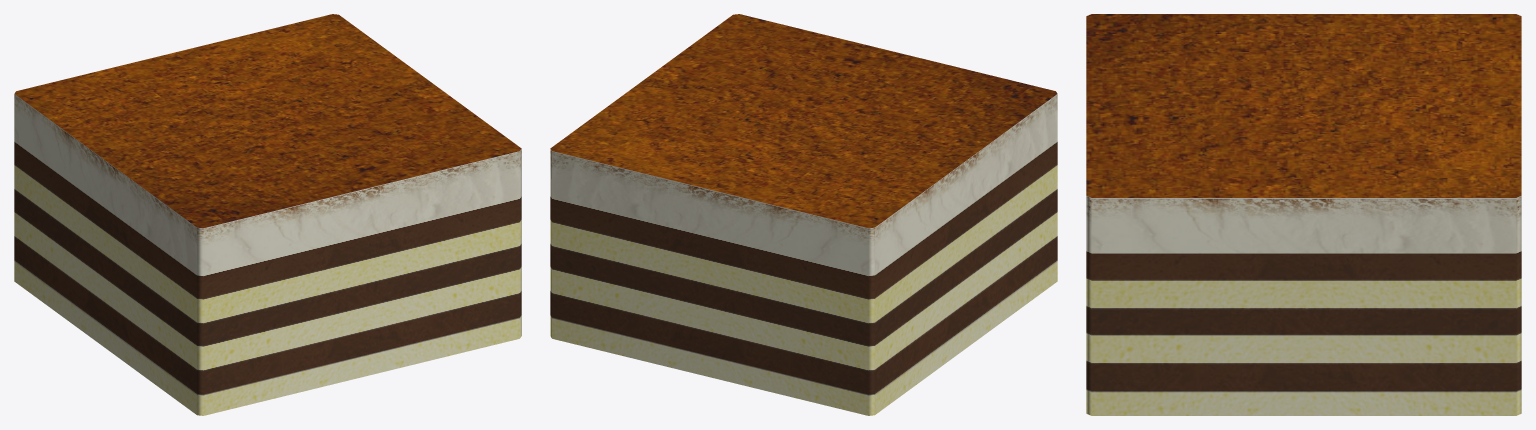
Rendered from Tiramisu.fbx.
3 renders of one model, left to right at view 1: azimuth 30°, elevation 25°; view 2: azimuth 150°, elevation 25°; view 3: azimuth 270°, elevation 25°, orthographic. The views are drawn at different scales.
Parts seen in each view (by area): view 1: Cake; view 2: Cake; view 3: Cake.
Boxes of the visible parts, x1=… form: Cake: x1=14, y1=14, x2=521, y2=415; Cake: x1=550, y1=14, x2=1057, y2=415; Cake: x1=1086, y1=14, x2=1521, y2=415.
Size of the model in its own units: 0.1726 by 0.0953 by 0.1726.
Materials: 1 (1 with a texture image).
